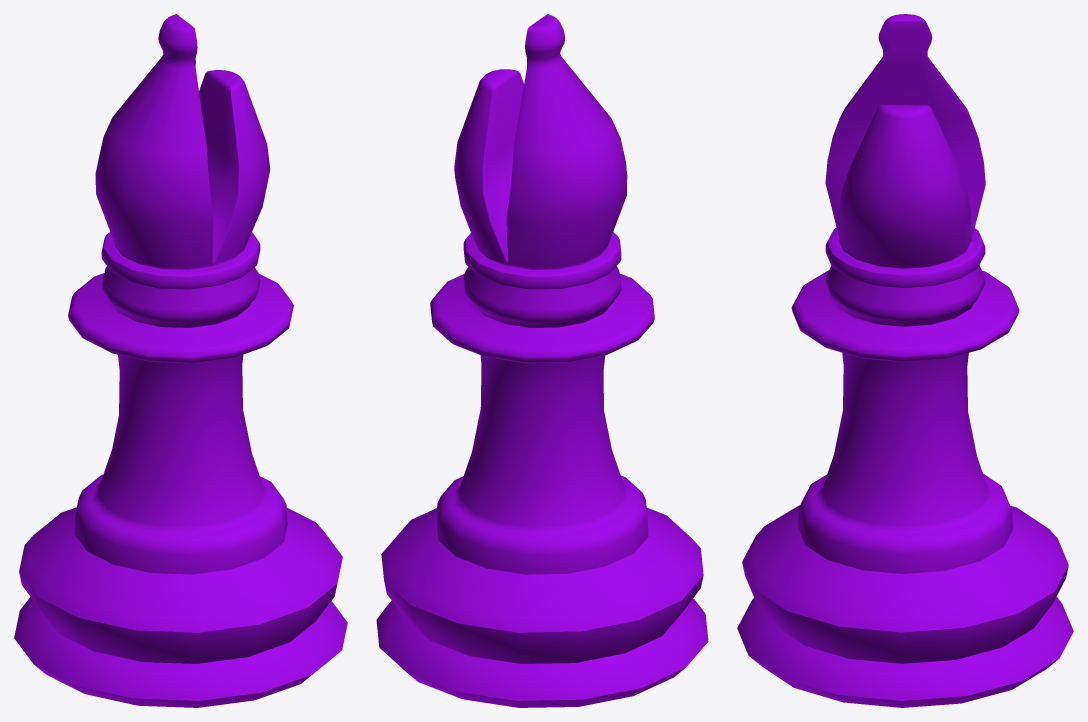
Rendered from Bishop.glb.
3 renders of one model, left to right at view 1: azimuth 30°, elevation 25°; view 2: azimuth 150°, elevation 25°; view 3: azimuth 270°, elevation 25°, orthographic.
Parts seen in each view (by area): view 1: SM_Blackbishop; view 2: SM_Blackbishop; view 3: SM_Blackbishop.
Part boxes in pixels (x1=…): SM_Blackbishop: x1=14, y1=14, x2=347, y2=707; SM_Blackbishop: x1=376, y1=14, x2=708, y2=707; SM_Blackbishop: x1=737, y1=14, x2=1073, y2=707.
Bounding box in the file's own units: 0.5156 × 1.07 × 0.5156.
